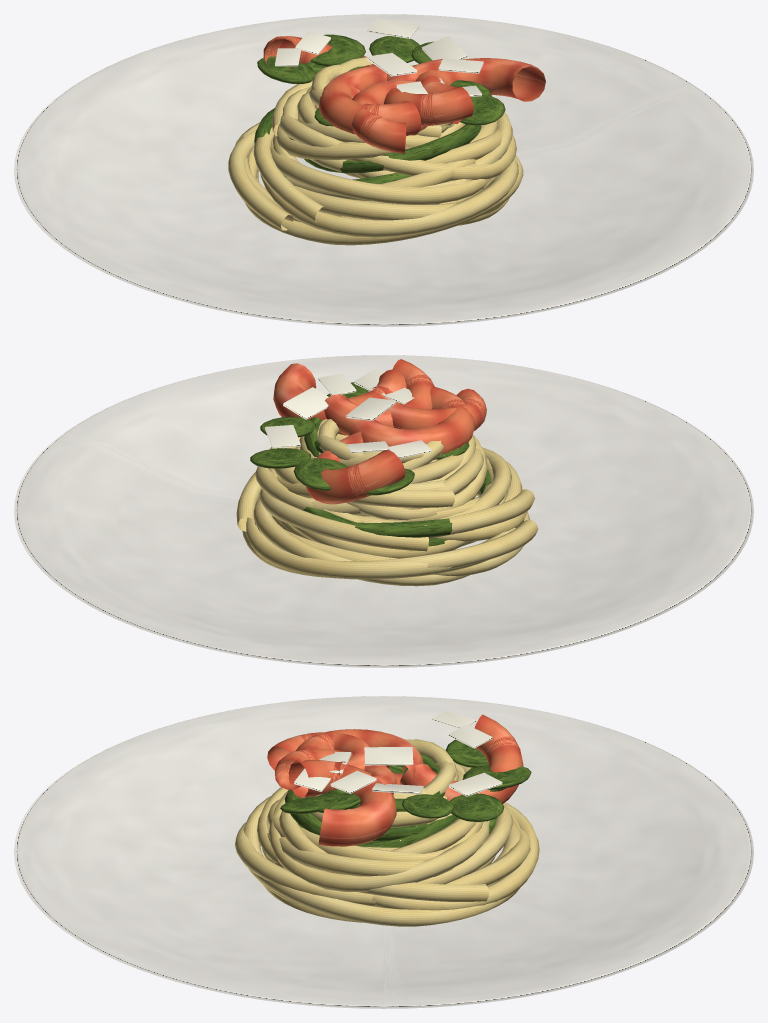
The model's file is pasta-pesto.glb.
3 renders of one model, top to bottom at view 1: azimuth 30°, elevation 25°; view 2: azimuth 150°, elevation 25°; view 3: azimuth 270°, elevation 25°, orthographic.
Bounding box in the file's own units: 0.27 × 0.0661 × 0.27.
5 materials, 4 textured.
